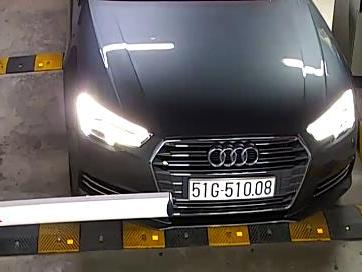car: (188, 173, 276, 205)
